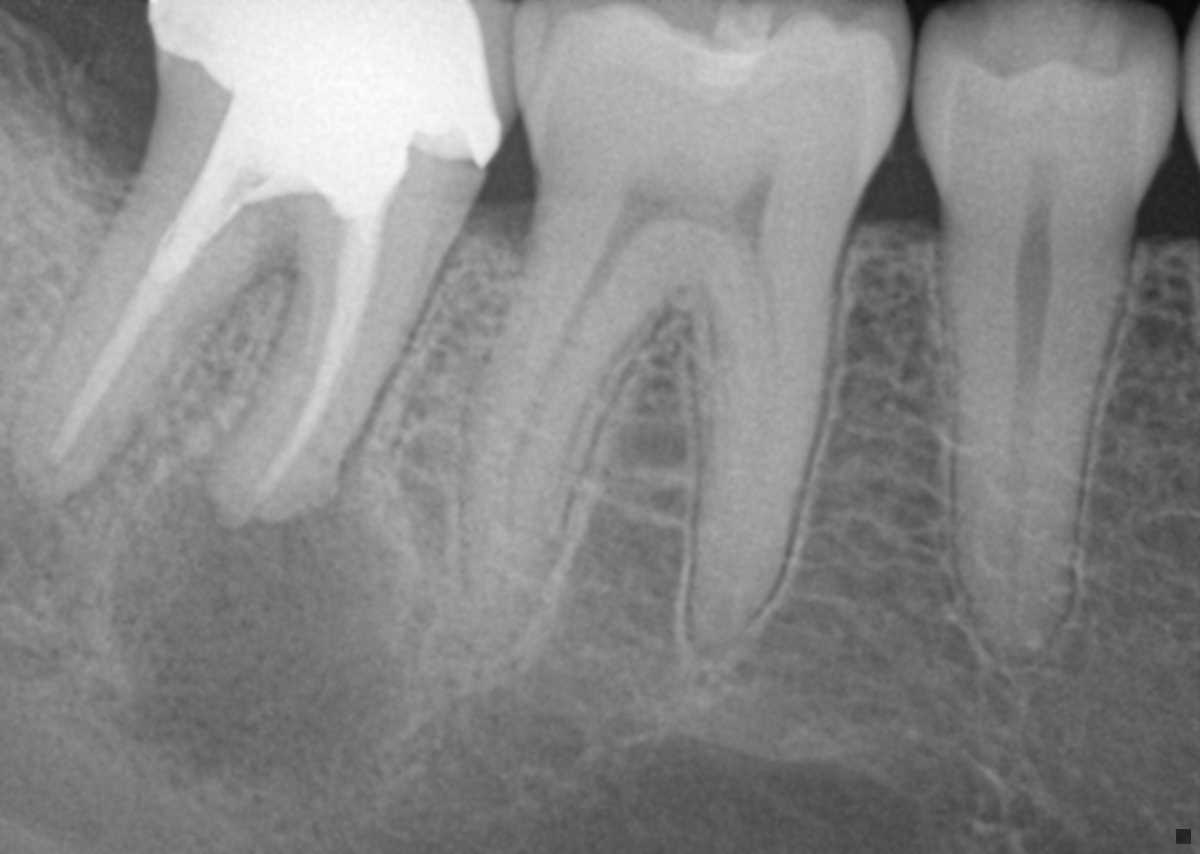Apical Lesion: (106, 464, 425, 781)
Distal Canal: (508, 239, 623, 571)
Distal Root: (12, 149, 281, 502), (452, 204, 675, 606)
Main Canal: (1011, 213, 1053, 636)
Main Root: (945, 204, 1140, 663)
Mesial Canal: (746, 275, 786, 530)
Mesial Root: (209, 190, 466, 523), (683, 259, 841, 653)
Root Canal Filling: (36, 173, 242, 475), (245, 206, 384, 517)
